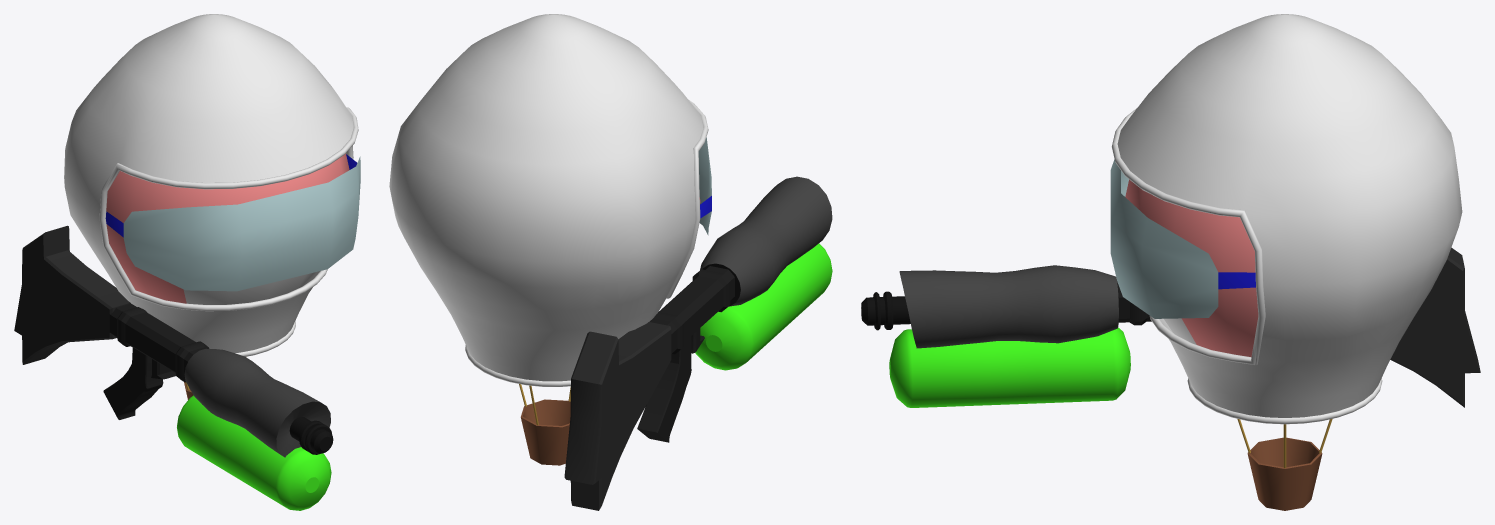
File: Lv5_FB_Biochemist.FBX
The picture shows the model from 3 angles, left to right: view 1: azimuth 30°, elevation 25°; view 2: azimuth 150°, elevation 25°; view 3: azimuth 270°, elevation 25°; orthographic projection. The views are drawn at different scales.
Parts seen in each view (by area): view 1: Sphere002, Plane001, Box001, Cylinder002, Sphere001, Cylinder003, Shape001, Box002, Box004; view 2: Sphere002, Box001, Cylinder002, Cylinder003, Box002, Box004, Cylinder001, Shape001, Plane001, Shape002; view 3: Sphere002, Cylinder002, Cylinder003, Plane001, Sphere001, Box001, Cylinder001, Shape001, Shape002.
Boxes of the visible parts, box(x1,y1,x2,y2) form: Sphere002: box(64, 14, 353, 352); Plane001: box(105, 154, 360, 291); Box001: box(14, 225, 130, 364); Cylinder002: box(184, 348, 333, 457); Sphere001: box(106, 153, 349, 304); Cylinder003: box(177, 395, 331, 510); Shape001: box(99, 107, 358, 311); Box002: box(109, 303, 209, 382); Box004: box(103, 347, 163, 419); Sphere002: box(389, 14, 703, 381); Box001: box(564, 322, 671, 510); Cylinder002: box(700, 176, 832, 306); Cylinder003: box(695, 243, 832, 370); Box002: box(649, 266, 734, 354); Box004: box(637, 336, 691, 442); Cylinder001: box(520, 399, 570, 465); Shape001: box(666, 99, 708, 298); Plane001: box(698, 137, 711, 235); Shape002: box(465, 345, 570, 386); Sphere002: box(1117, 14, 1462, 417); Cylinder002: box(861, 265, 1118, 348); Cylinder003: box(889, 327, 1130, 407); Plane001: box(1110, 159, 1255, 318); Sphere001: box(1125, 179, 1258, 357); Box001: box(1390, 247, 1480, 407); Cylinder001: box(1247, 437, 1322, 510); Shape001: box(1111, 108, 1265, 365); Shape002: box(1187, 378, 1382, 424).
Size of the model in its own units: 138 by 213 by 247.
